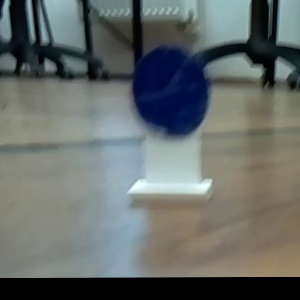circle: (102, 42, 227, 205)
